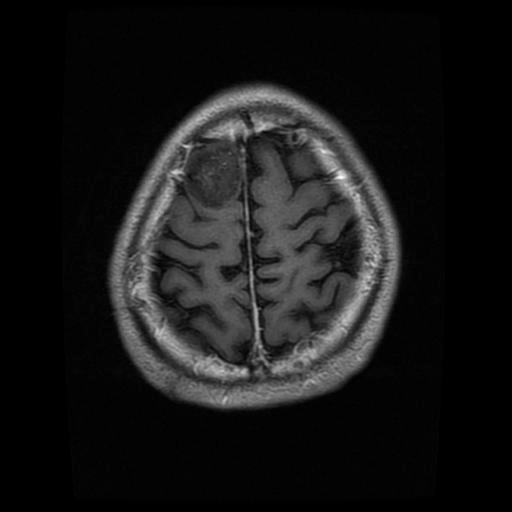Tumour-Glioma: (182, 131, 262, 229)
